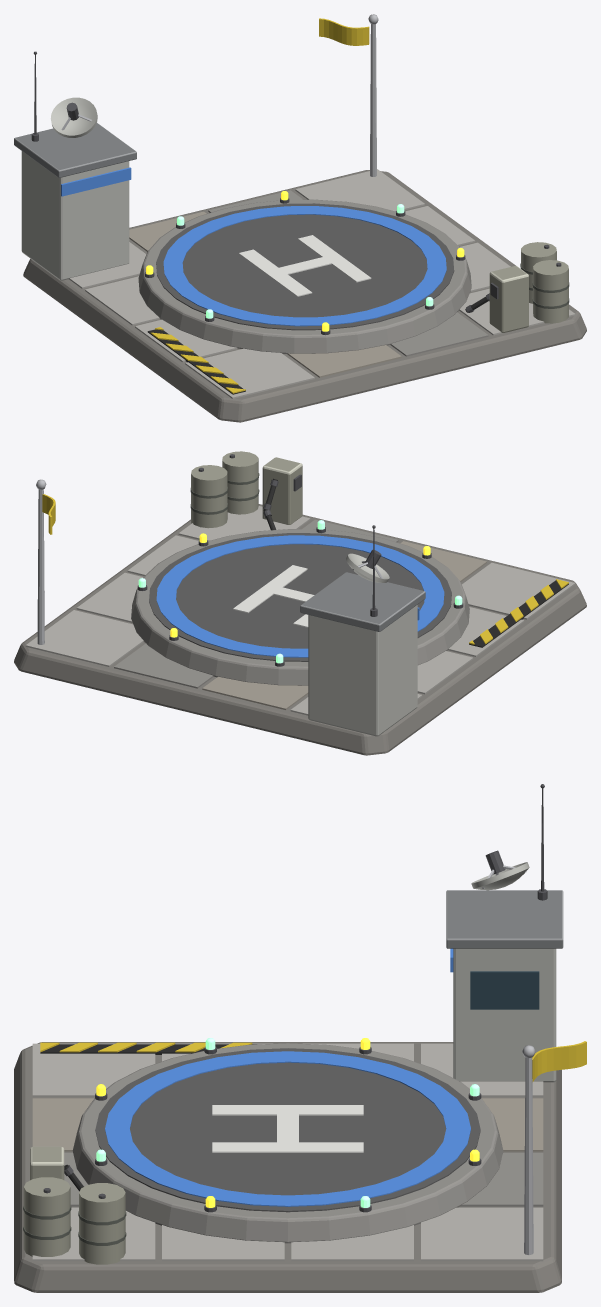
File: helipad_blue.glb
The picture shows the model from 3 angles, top to bottom: view 1: azimuth 30°, elevation 25°; view 2: azimuth 150°, elevation 25°; view 3: azimuth 270°, elevation 25°; orthographic projection. The views are drawn at different scales.
Visible parts, largest first — view 1: Body; view 2: Body; view 3: Body.
Boxes of the visible parts, x1,y1,x2,y2 form: Body: (14, 14, 586, 422); Body: (14, 451, 586, 755); Body: (14, 784, 586, 1292).
Size of the model in its own units: 3.99 by 2.3 by 4.16.
Materials: 1 (1 with a texture image).
